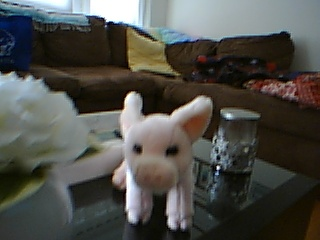piggy: (110, 88, 215, 233)
